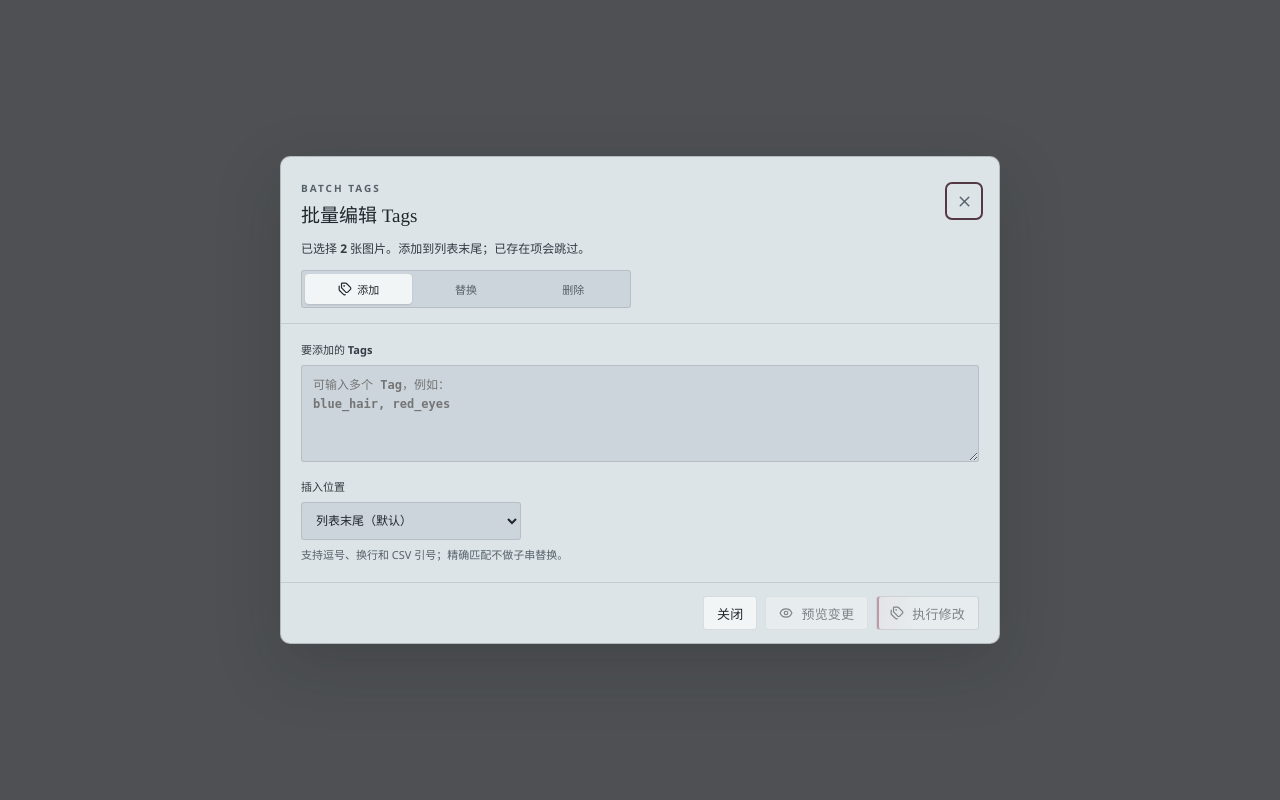
batch Tags editing › keeps a valid preview when detail paging fails and retries the failed page
Step 1. Type "new_tag" into the text box labelled "要添加的 Tags" → (640, 414), box 301,365 -> 979,462
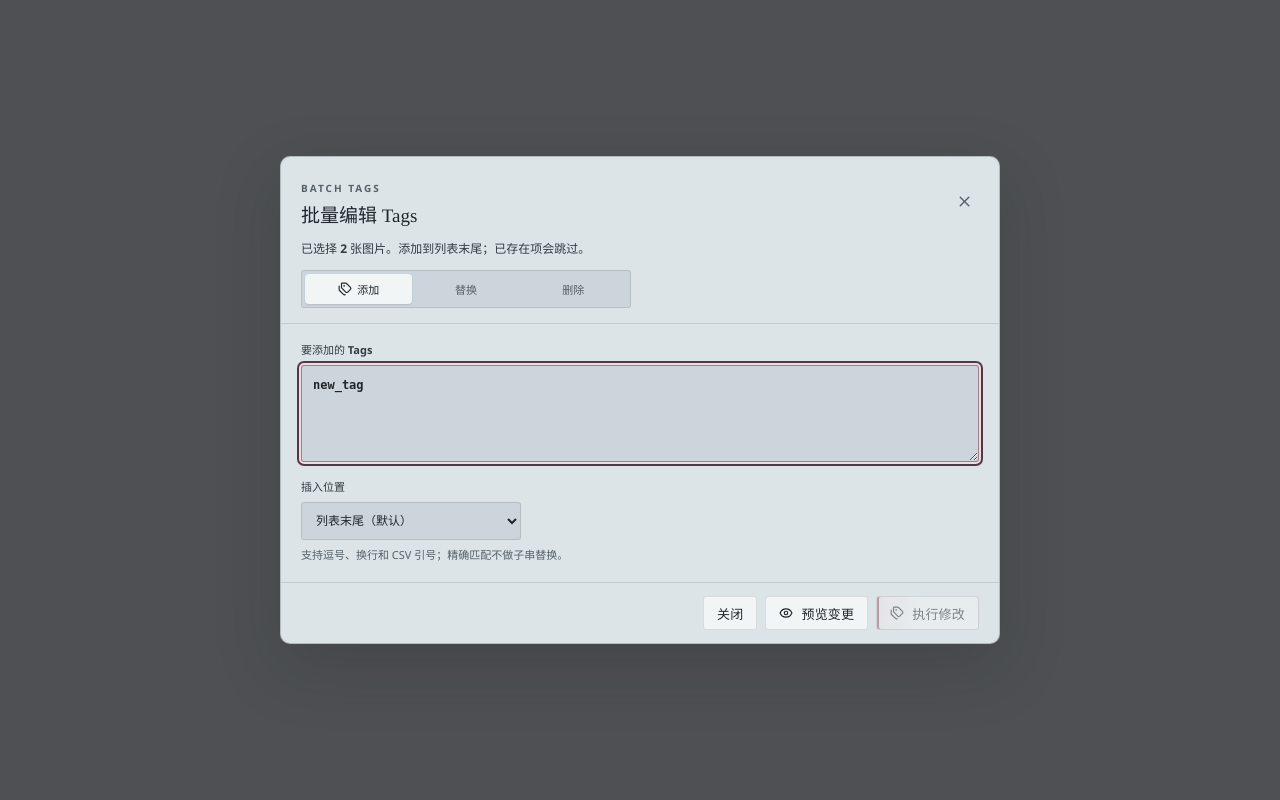
Step 2. Click the button "预览变更" → (817, 613), box 765,596 -> 868,630
(page scrolled)
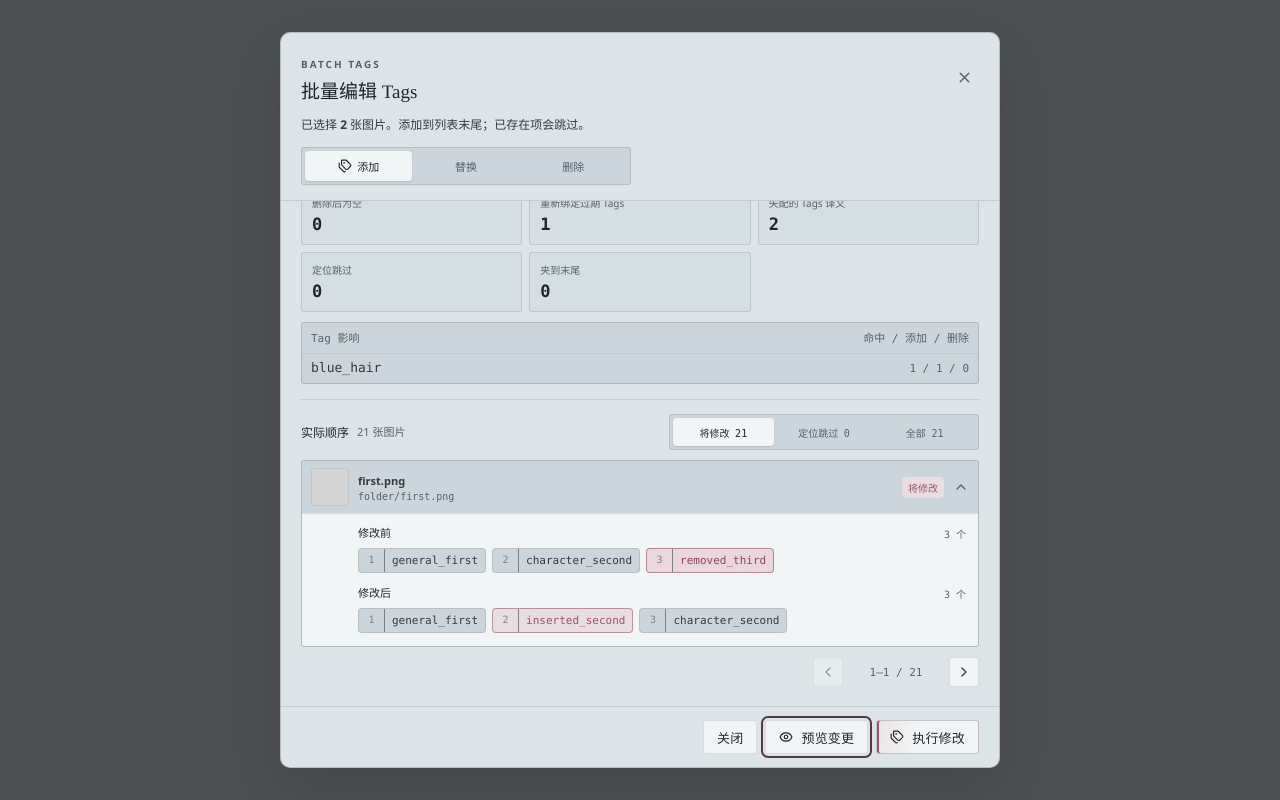
Result: the text "1–1 / 21" is shown at 870,666 -> 922,679
Step 3. Click the button named "下一页" → (964, 672), box 949,658 -> 979,688
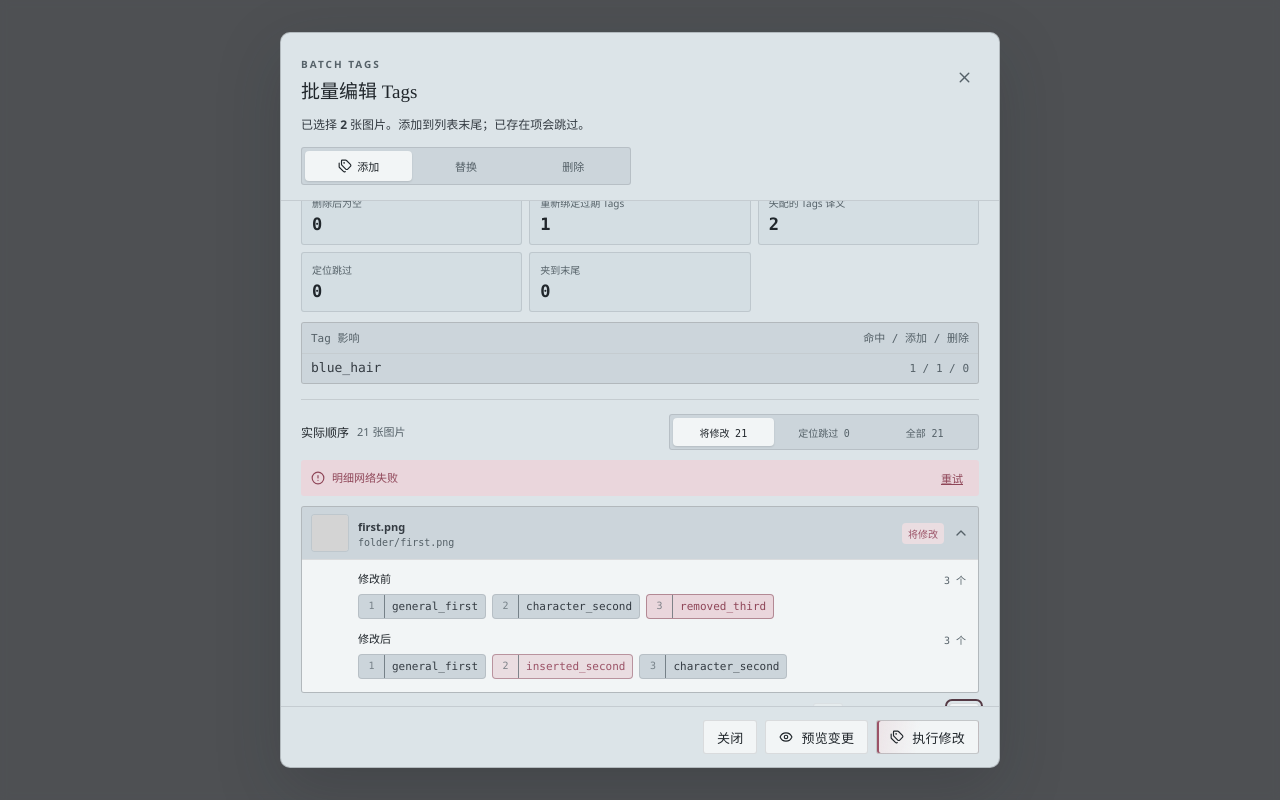
Result: the text "first.png" is shown at 358,519 -> 405,534
Result: the button "执行修改" is enabled at 876,720 -> 979,754
Result: the text "明细网络失败" is shown at 332,470 -> 398,486
Step 4. Click the button "重试" → (952, 478), box 935,470 -> 969,488
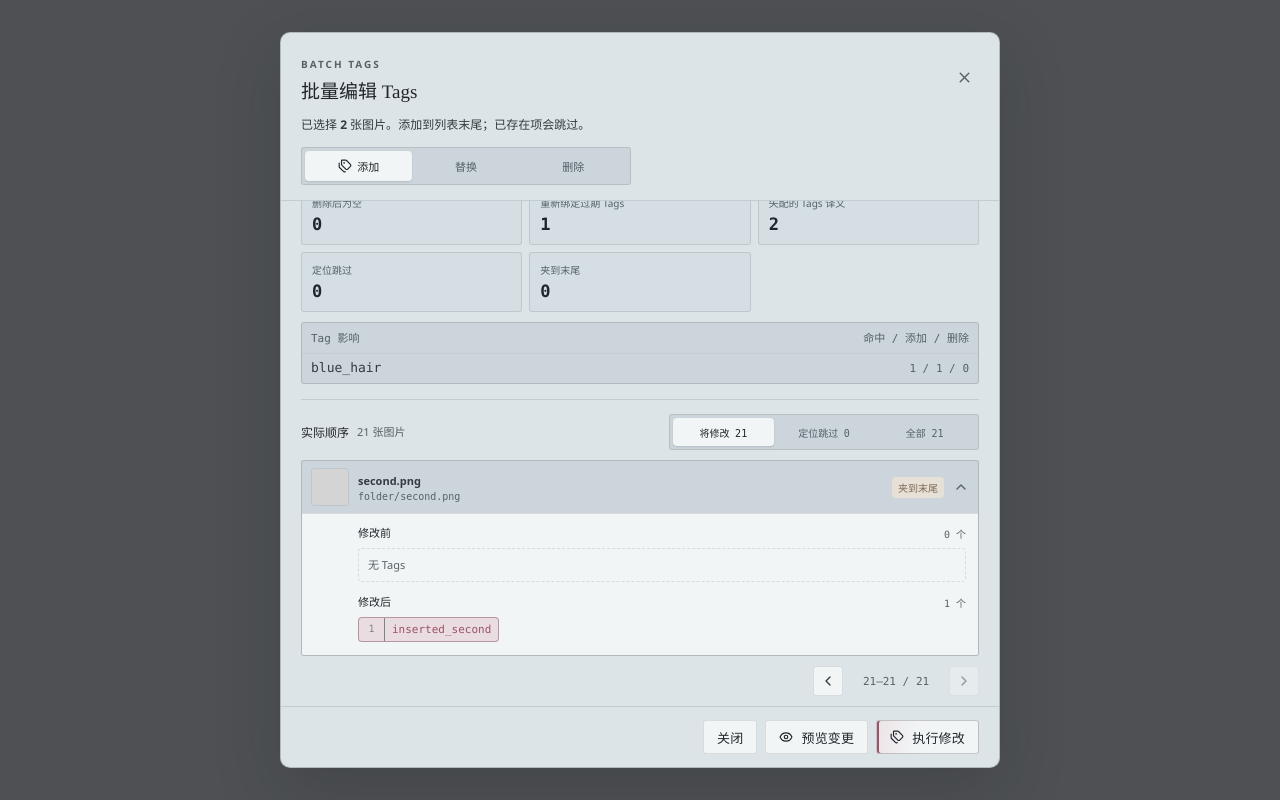
Result: the text "21–21 / 21" is shown at 863,675 -> 929,688
